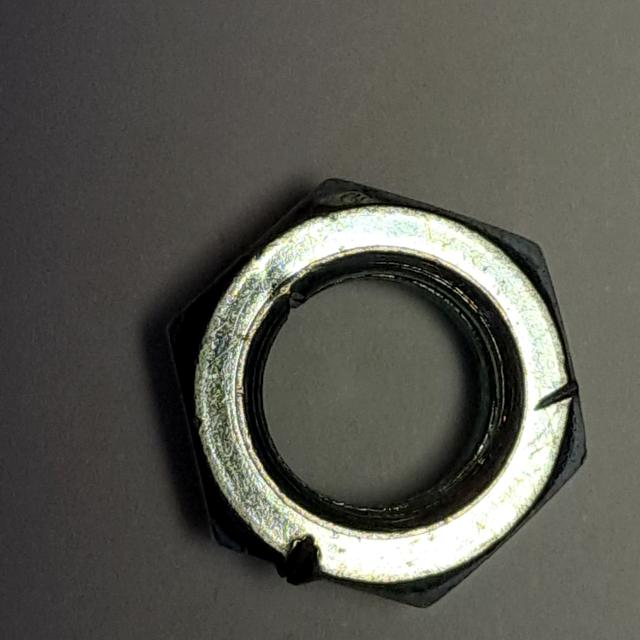Scratches: (156, 166, 609, 620)
